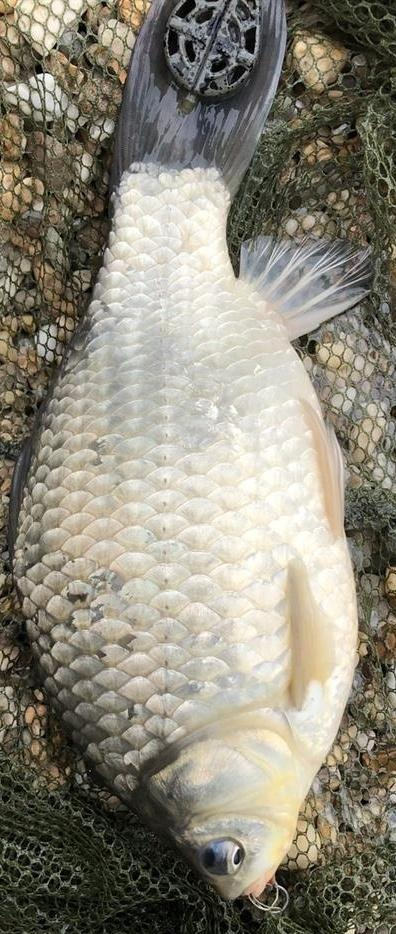Silver Barb: (0, 0, 396, 928)
